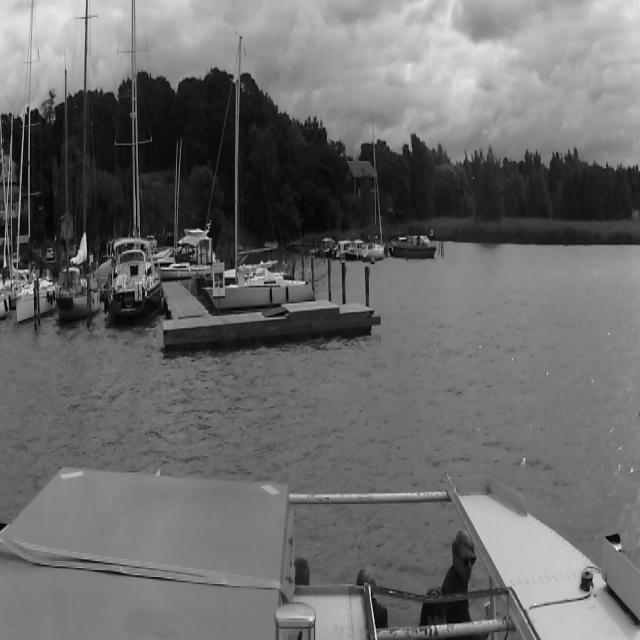ship: (204, 35, 317, 301), (106, 3, 158, 314), (59, 10, 100, 317), (15, 10, 51, 325), (162, 141, 211, 275), (361, 108, 386, 258), (389, 234, 437, 258), (343, 240, 365, 260), (332, 240, 352, 256), (318, 241, 336, 255)
